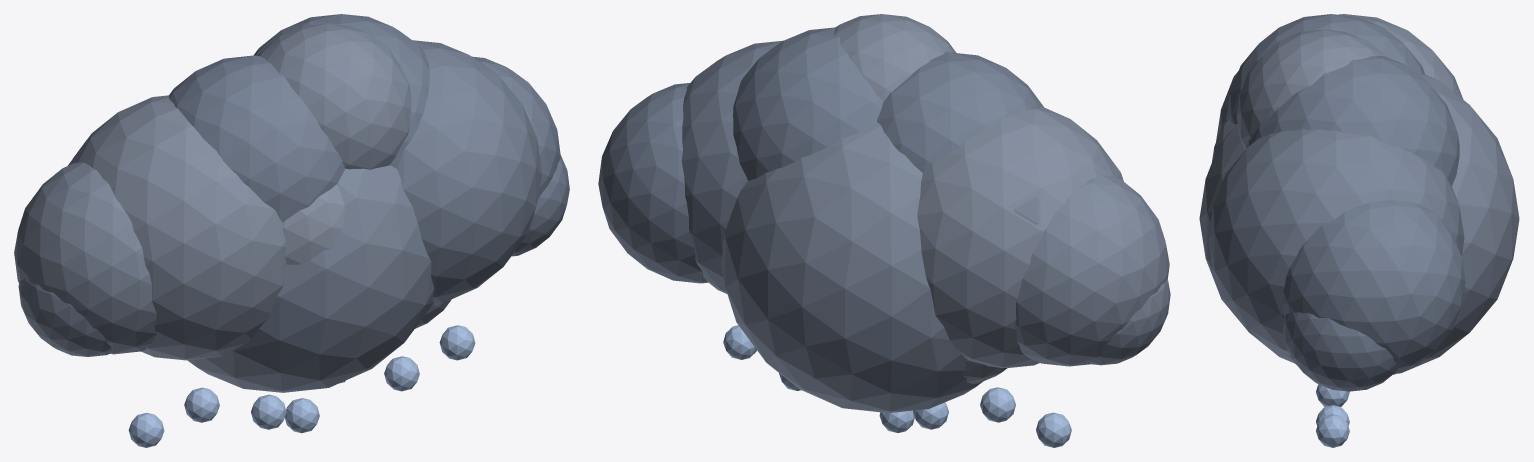
File: rain_cloud.glb
3 renders of one model, left to right at view 1: azimuth 30°, elevation 25°; view 2: azimuth 150°, elevation 25°; view 3: azimuth 270°, elevation 25°, orthographic. The views are drawn at different scales.
Parts seen in each view (by area): view 1: world; view 2: world; view 3: world.
Part boxes in pixels (x1,y1,x2,y2): world: (14, 14, 569, 447); world: (598, 14, 1170, 447); world: (1199, 14, 1519, 447).
Bounding box in the file's own units: 4.82 × 3.44 × 2.62.
